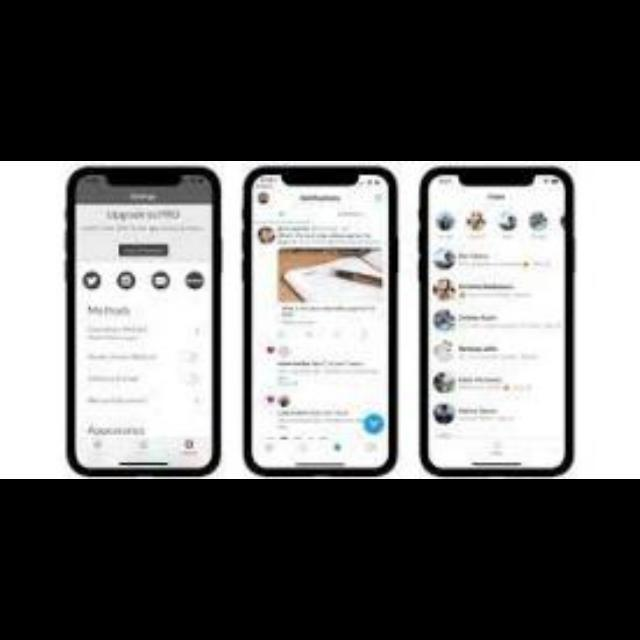phone: (237, 166, 402, 480), (69, 160, 224, 478), (417, 163, 571, 473)
